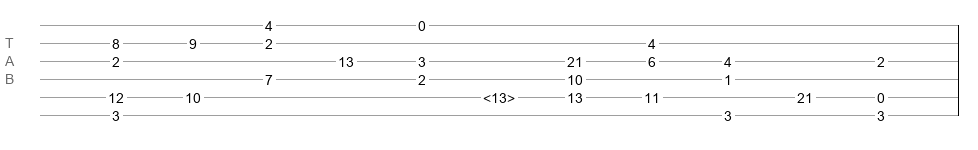0: (418, 18, 426, 28), (877, 90, 885, 100)
1: (724, 72, 732, 82)
10: (185, 90, 201, 100), (567, 72, 583, 82)
11: (644, 90, 660, 100)
12: (108, 90, 124, 100)
13: (338, 54, 354, 64), (567, 90, 583, 100)
2: (112, 54, 120, 64), (265, 36, 273, 46), (418, 72, 426, 82), (877, 54, 885, 64)
21: (567, 54, 583, 64), (797, 90, 813, 100)
3: (112, 108, 120, 118), (418, 54, 426, 64), (724, 108, 732, 118), (877, 108, 885, 118)
4: (265, 18, 273, 28), (648, 36, 656, 46), (724, 54, 732, 64)
6: (648, 54, 656, 64)
7: (265, 72, 273, 82)
8: (112, 36, 120, 46)
9: (189, 36, 197, 46)
harmonic: (483, 90, 515, 100)
